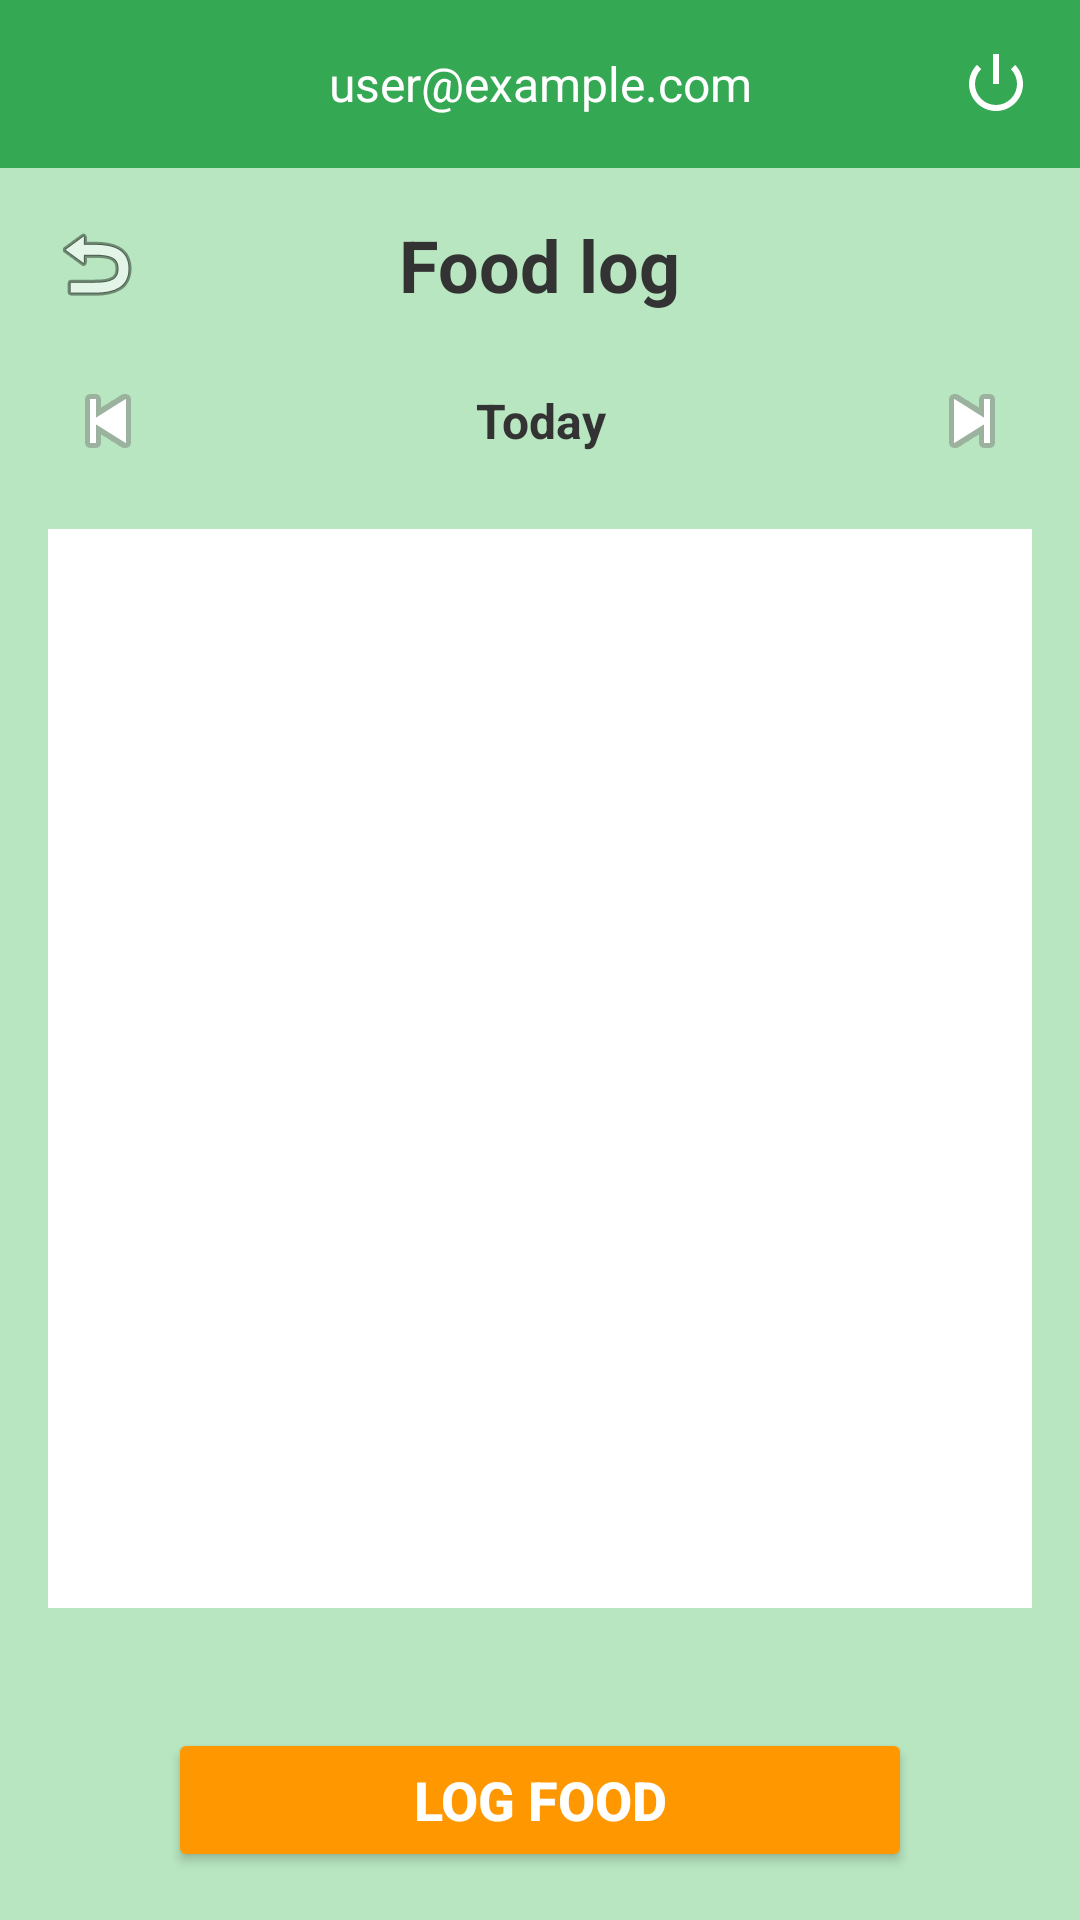

Point at icon controls on the screen. Image size 1080w x 1920h, points as point (x, y).
Back: point (97, 264)
Next Date: point (972, 421)
Previous Date: point (108, 421)
